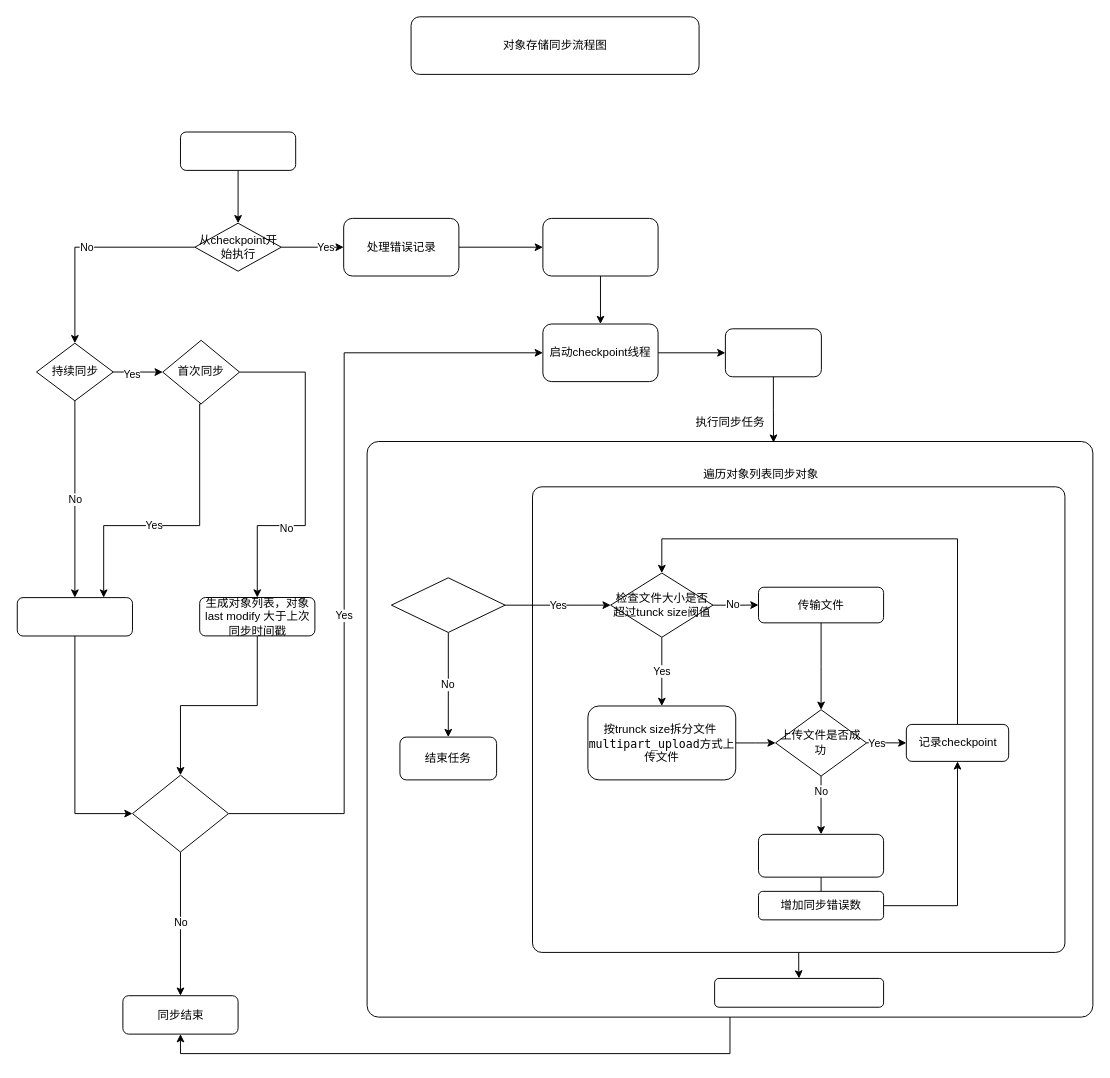
The diagram is 1110 pixels wide and 1078 high, and some of its shapes have lost their labels. The shapes that lost their labels are listed below. From the top down, each one's centre as x and y in pixels, then its label:
At [238,150]: "开始同步".
At [600,246]: "根据checkpoint定位文件offset".
At [772,352]: "遍历对象列表按批次生成多线程同步任务".
At [74,616]: "生成对象列表文件".
At [447,604]: "检查同步错误数量是否到达上限".
At [180,813]: "文件生成成功".
At [821,855]: "追加错误记录文件".
At [799,992]: "删除checkpoint记录，若无错误记录删除错误记录文件".
